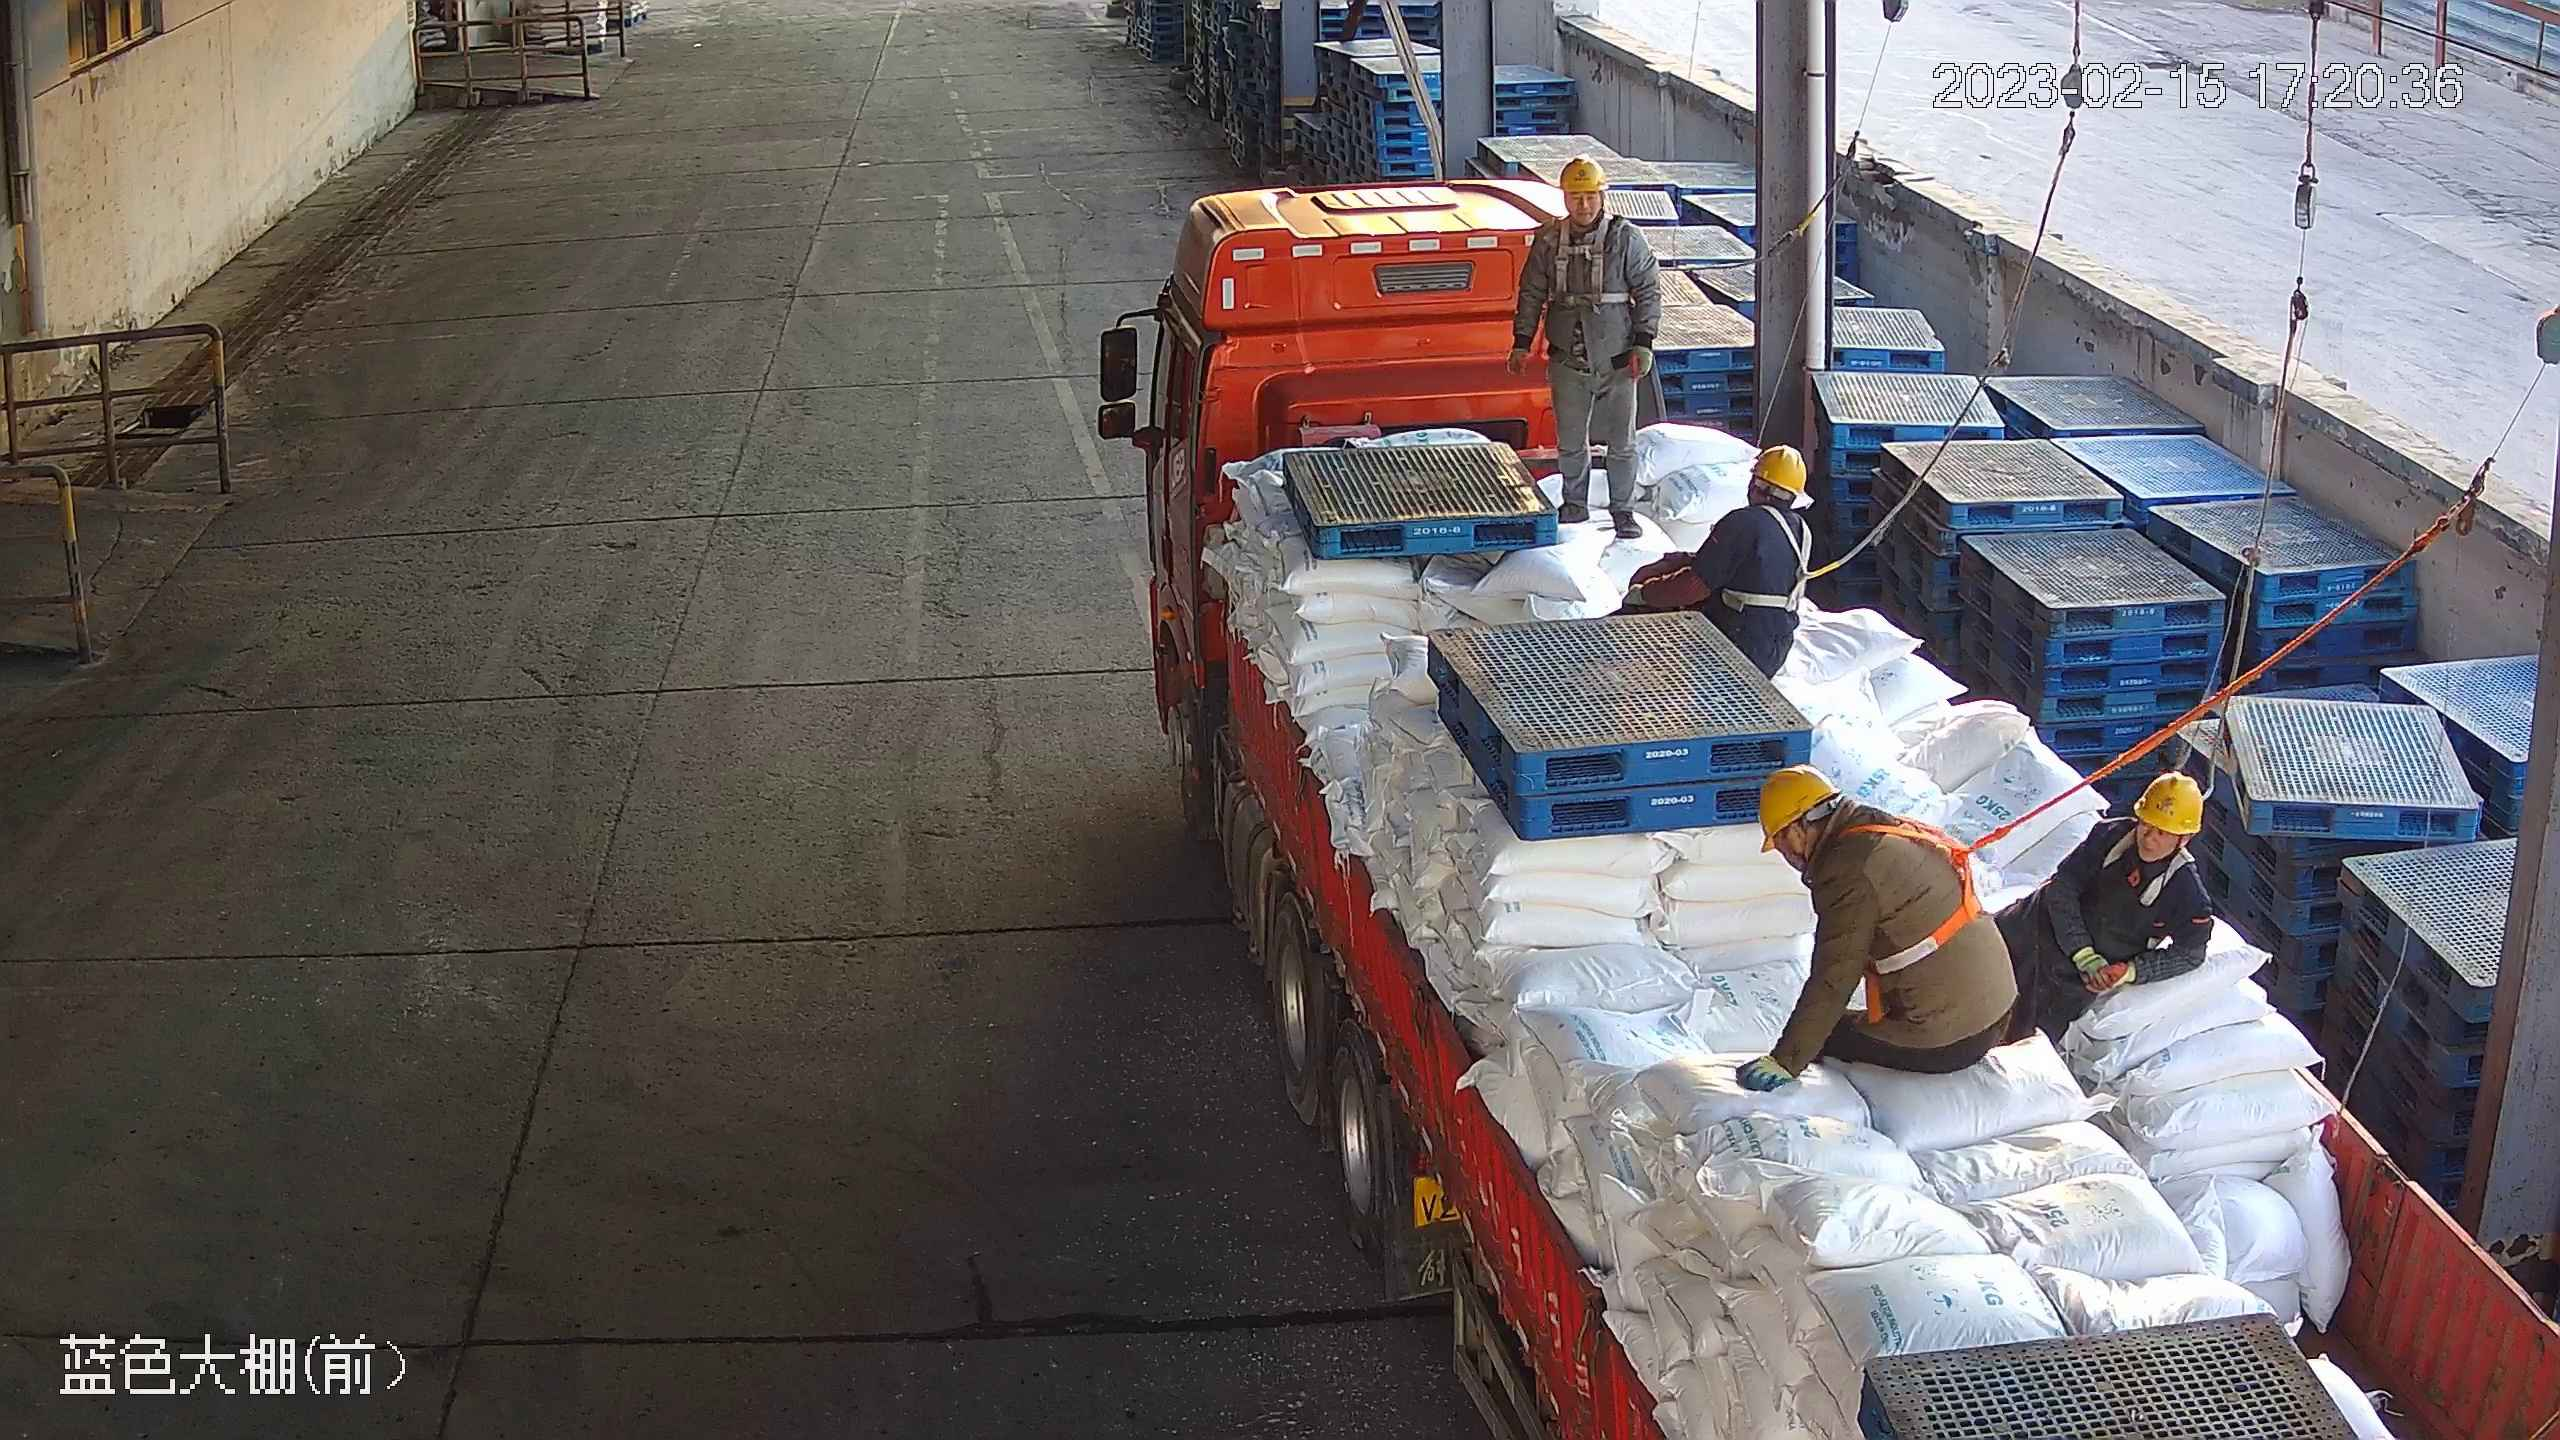belt: (1836, 819, 1986, 979), (1729, 499, 1820, 616), (1548, 219, 1629, 312), (2103, 825, 2205, 897)
head: (1746, 760, 1951, 888), (2062, 773, 2214, 917), (1707, 447, 1814, 573), (1520, 164, 1650, 257)
helmet: (1742, 756, 1835, 834), (2135, 769, 2218, 841), (1748, 441, 1833, 501), (1559, 156, 1609, 203)
people: (1744, 760, 2023, 1091), (1505, 154, 1648, 529)
truck: (1107, 179, 2560, 1440)
